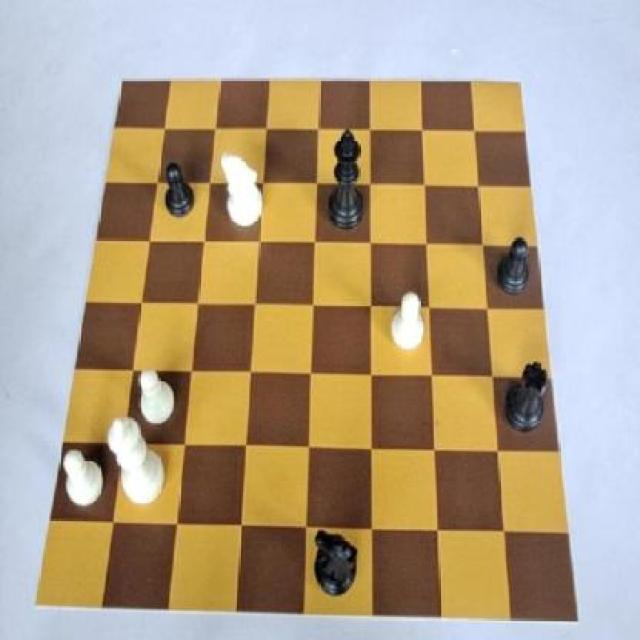black-bishop: (323, 123, 365, 243)
black-king: (312, 526, 362, 609)
black-knight: (492, 228, 534, 302), (163, 159, 202, 226)
black-queen: (503, 357, 548, 440)
white-bishop: (103, 408, 169, 504)
white-king: (214, 148, 266, 232)
white-knight: (134, 362, 180, 429), (60, 451, 105, 509), (391, 286, 427, 355)
